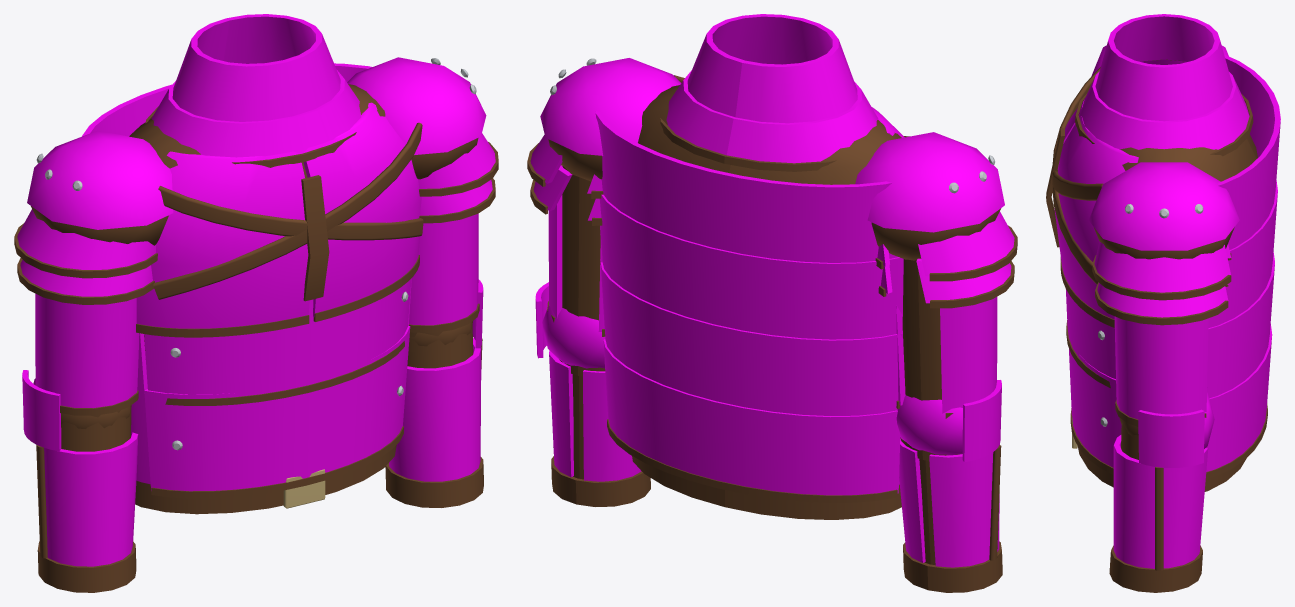
File: porte_armure1_plastron.glb
The picture shows the model from 3 angles, left to right: view 1: azimuth 30°, elevation 25°; view 2: azimuth 150°, elevation 25°; view 3: azimuth 270°, elevation 25°; orthographic projection. The views are drawn at different scales.
Visible parts, largest first — view 1: poitrine__plastron_teinte.010, ventre__plastron_teinte.010, poitrine__plastron_sac_cuir.002, avantbras_d__plastron_teinte.010, bras_d__plastron_teinte.010, avantbras_g__plastron_teinte.010, ventre__plastron_sac_cuir.004, bras_g__plastron_teinte.010, avantbras_d__plastron_sac_cuir.002, avantbras_g__plastron_sac_cuir.002, ventre__plastron_boucle.004, bras_g__plastron_sac_cuir.002 (+1 smaller); view 2: poitrine__plastron_teinte.010, ventre__plastron_teinte.010, avantbras_d__plastron_teinte.010, poitrine__plastron_sac_cuir.002, avantbras_g__plastron_teinte.010, ventre__plastron_sac_cuir.004, bras_d__plastron_teinte.010, bras_g__plastron_sac_cuir.002, avantbras_d__plastron_sac_cuir.002, bras_d__plastron_sac_cuir.002, avantbras_g__plastron_sac_cuir.002, bras_g__plastron_teinte.010; view 3: poitrine__plastron_teinte.010, ventre__plastron_teinte.010, avantbras_g__plastron_teinte.010, poitrine__plastron_sac_cuir.002, bras_g__plastron_teinte.010, avantbras_g__plastron_sac_cuir.002, ventre__plastron_sac_cuir.004.
Part boxes in pixels (x1,y1,x2,y2): poitrine__plastron_teinte.010: [17, 14, 495, 328]; ventre__plastron_teinte.010: [131, 278, 411, 491]; poitrine__plastron_sac_cuir.002: [14, 84, 498, 337]; avantbras_d__plastron_teinte.010: [22, 370, 138, 566]; bras_d__plastron_teinte.010: [35, 293, 139, 408]; avantbras_g__plastron_teinte.010: [389, 279, 483, 481]; ventre__plastron_sac_cuir.004: [135, 335, 404, 514]; bras_g__plastron_teinte.010: [409, 213, 478, 325]; avantbras_d__plastron_sac_cuir.002: [36, 405, 136, 592]; avantbras_g__plastron_sac_cuir.002: [385, 321, 483, 507]; ventre__plastron_boucle.004: [283, 469, 325, 508]; bras_g__plastron_sac_cuir.002: [408, 303, 479, 352]; poitrine__plastron_teinte.010: [530, 14, 1014, 339]; ventre__plastron_teinte.010: [600, 260, 902, 495]; avantbras_d__plastron_teinte.010: [896, 380, 1001, 567]; poitrine__plastron_sac_cuir.002: [527, 75, 1017, 308]; avantbras_g__plastron_teinte.010: [535, 282, 641, 481]; ventre__plastron_sac_cuir.004: [607, 419, 901, 519]; bras_d__plastron_teinte.010: [896, 297, 997, 413]; bras_g__plastron_sac_cuir.002: [547, 164, 605, 376]; avantbras_d__plastron_sac_cuir.002: [903, 445, 1002, 592]; bras_d__plastron_sac_cuir.002: [896, 259, 962, 460]; avantbras_g__plastron_sac_cuir.002: [551, 374, 650, 506]; bras_g__plastron_teinte.010: [548, 195, 604, 331]; poitrine__plastron_teinte.010: [1054, 14, 1280, 328]; ventre__plastron_teinte.010: [1066, 252, 1274, 471]; avantbras_g__plastron_teinte.010: [1113, 392, 1214, 568]; poitrine__plastron_sac_cuir.002: [1046, 59, 1257, 327]; bras_g__plastron_teinte.010: [1114, 316, 1208, 419]; avantbras_g__plastron_sac_cuir.002: [1109, 418, 1202, 592]; ventre__plastron_sac_cuir.004: [1066, 320, 1267, 491].
Bounding box in the file's own units: 0.6939 × 0.695 × 0.326.
